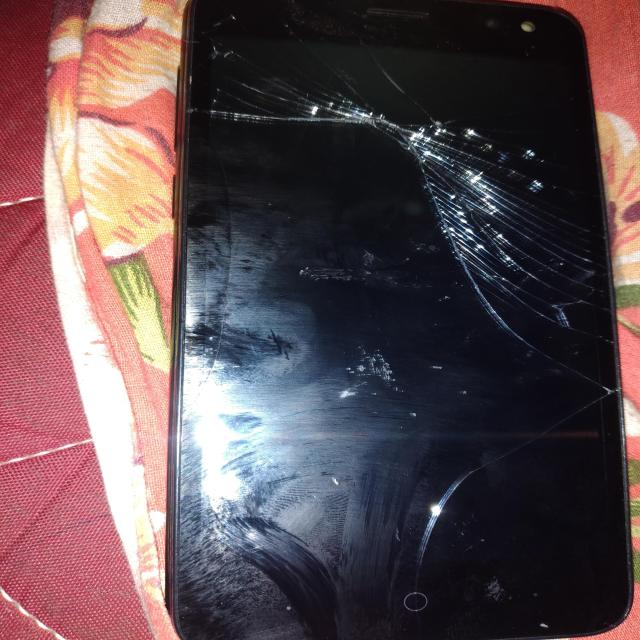mobile: (127, 4, 609, 640)
